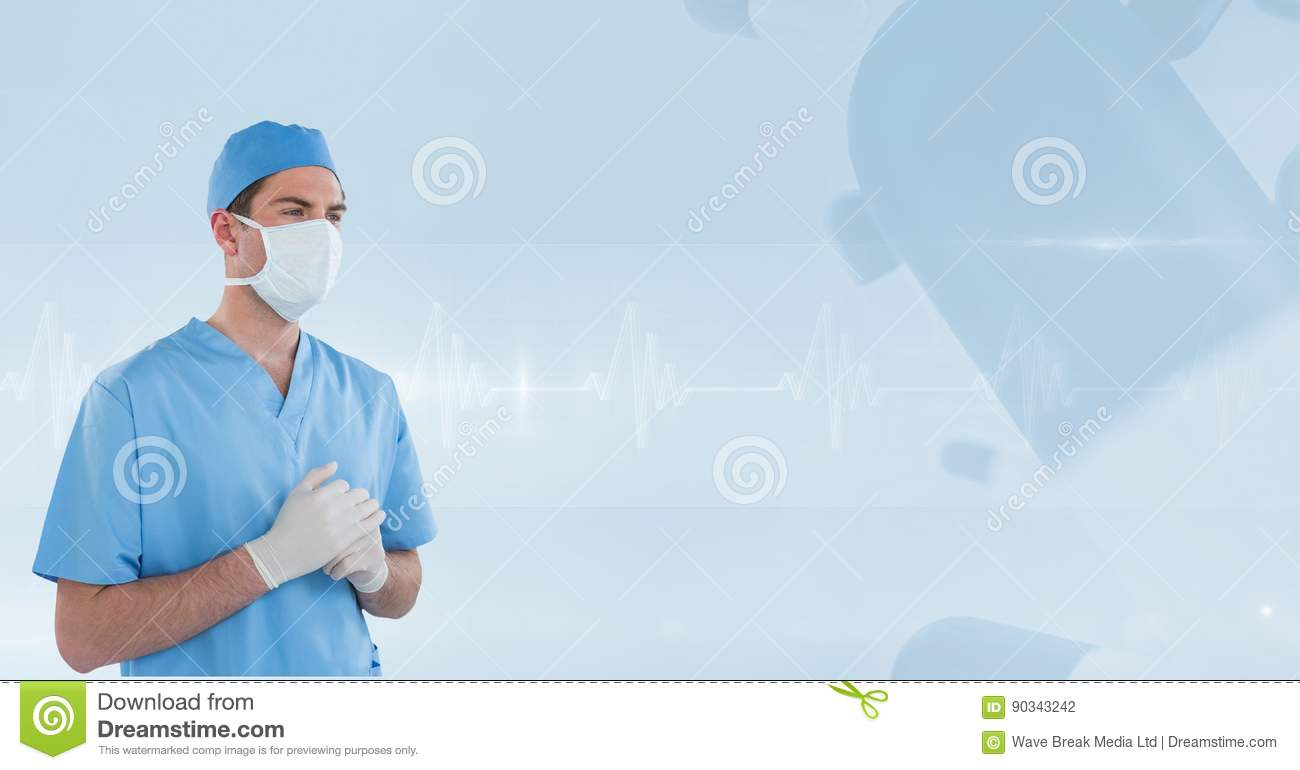mask: (249, 224, 349, 313)
